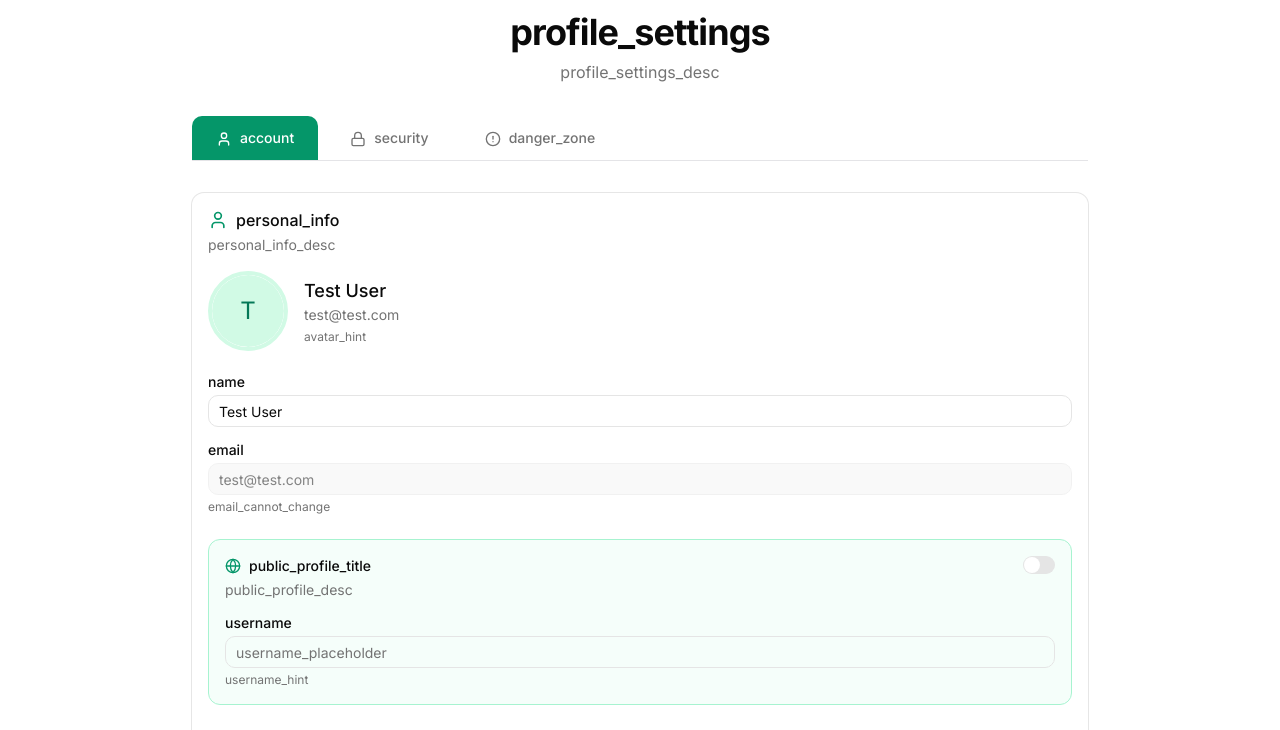
Scenario: SettingsPage › changes password
This screenshot has width=1280, height=730.
Expected: the text "Test User" is shown, [304,277,399,305]
Click the button "security": (389, 138) [326,116,453,160]
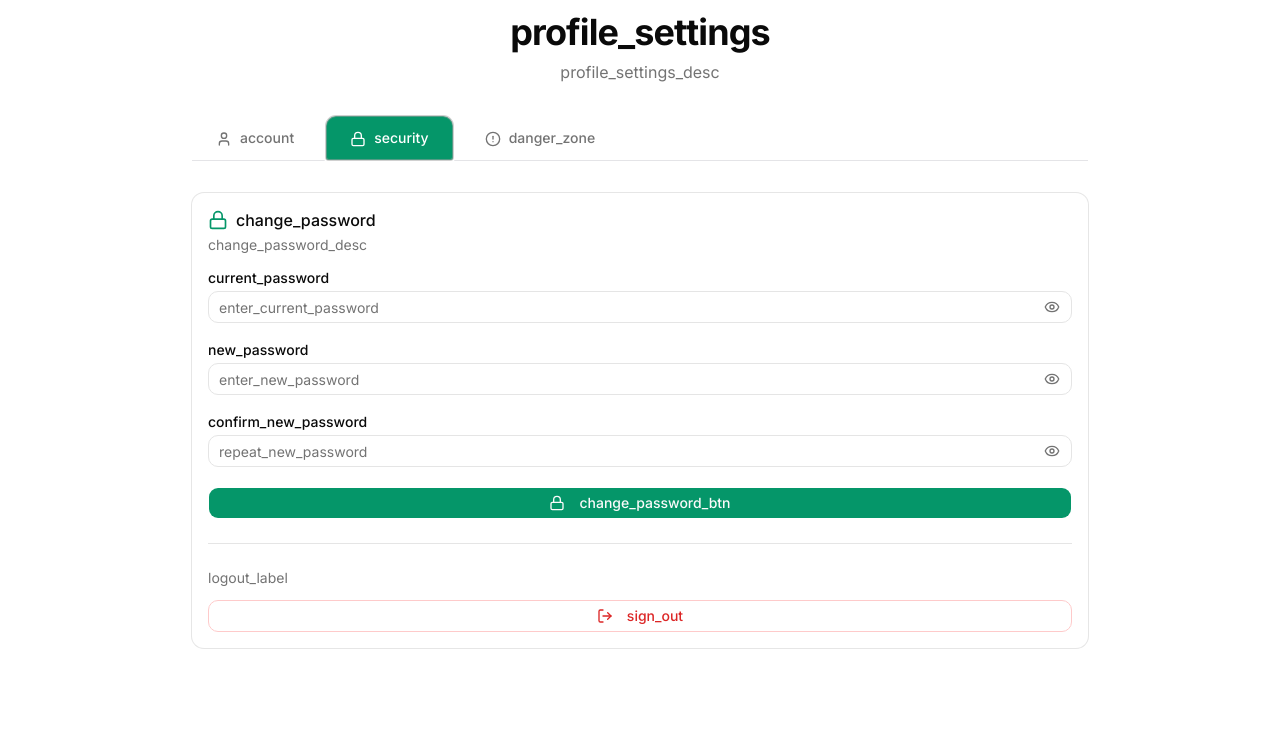
In the password field labelled "current_password": (640, 307) [208,291,1072,323], type "oldpass"
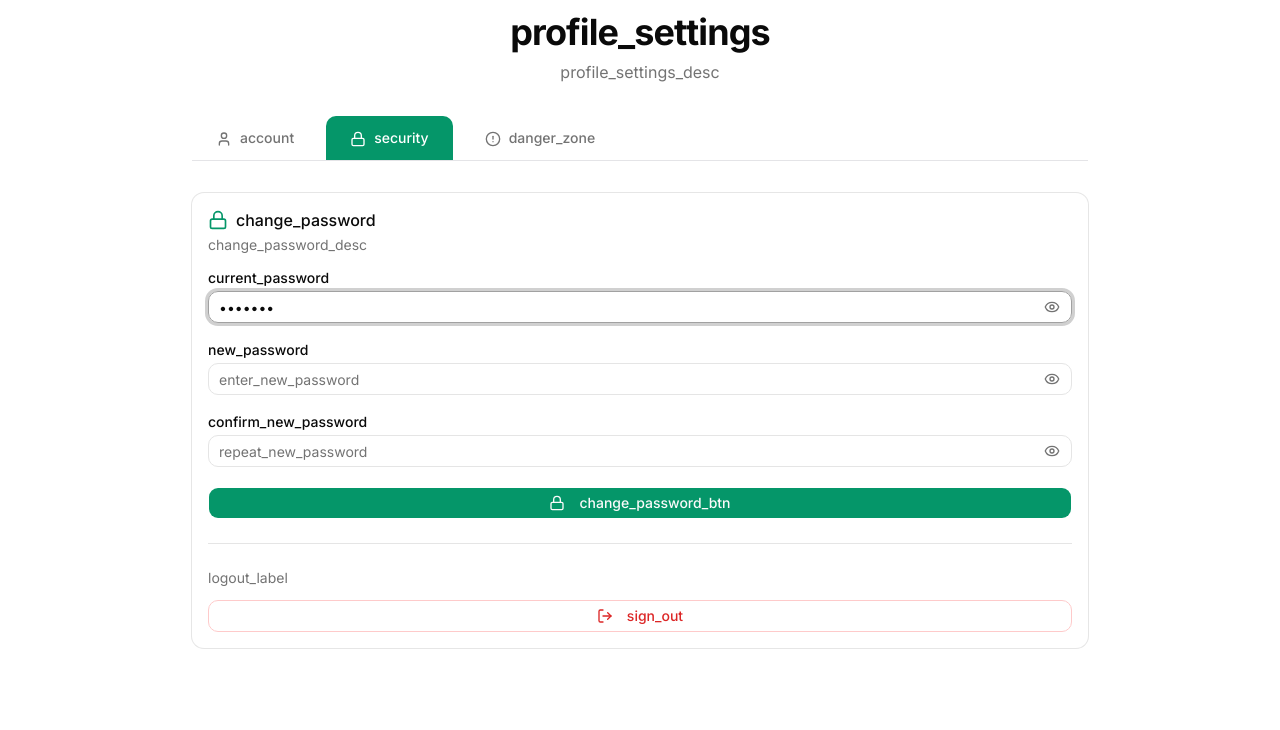
In the password field labelled "new_password": (640, 379) [208,363,1072,395], type "newpass123"
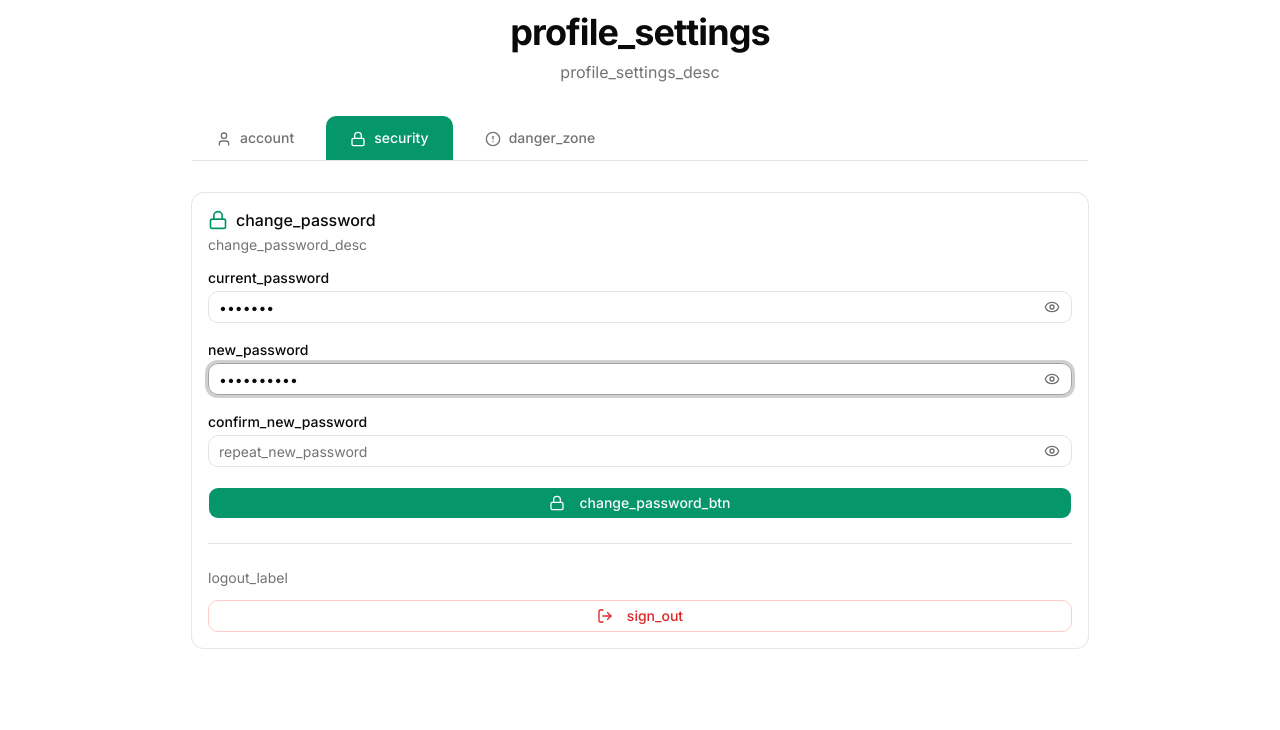
In the password field labelled "confirm_new_password": (640, 451) [208,435,1072,467], type "newpass123"
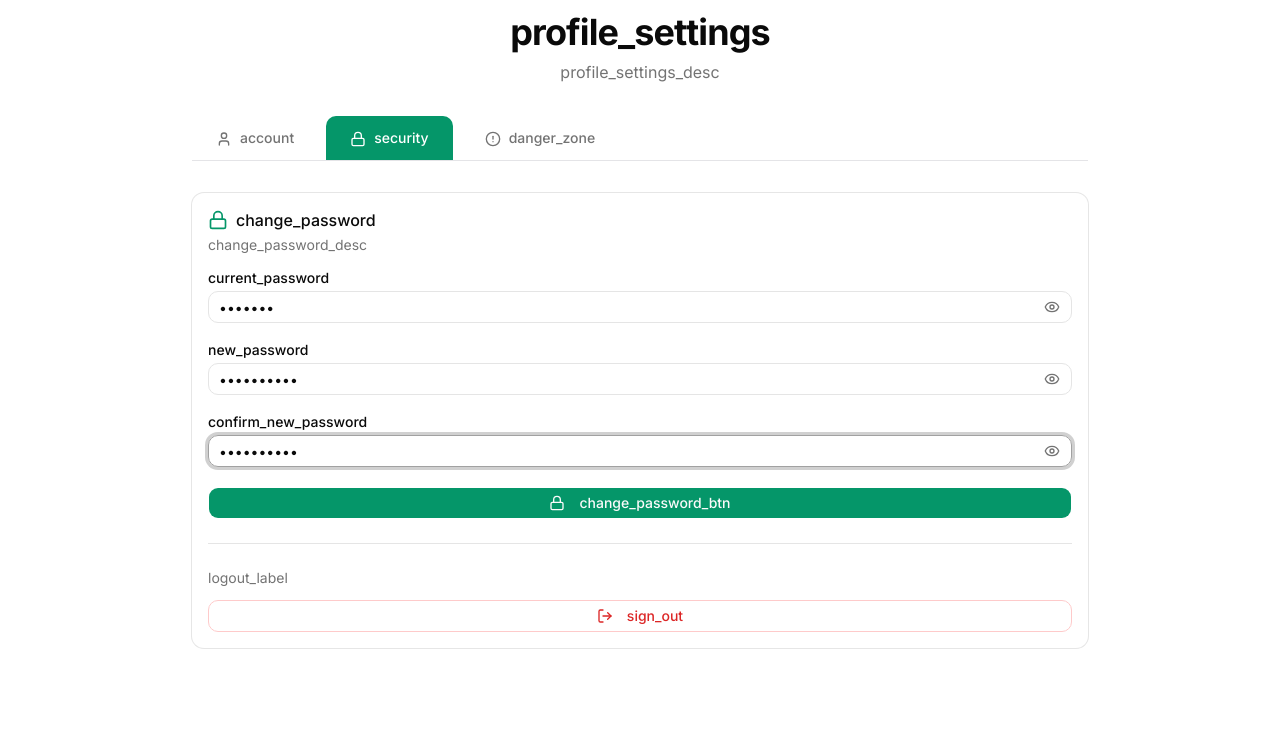
Click the button "change_password_btn": (640, 503) [208,487,1072,519]
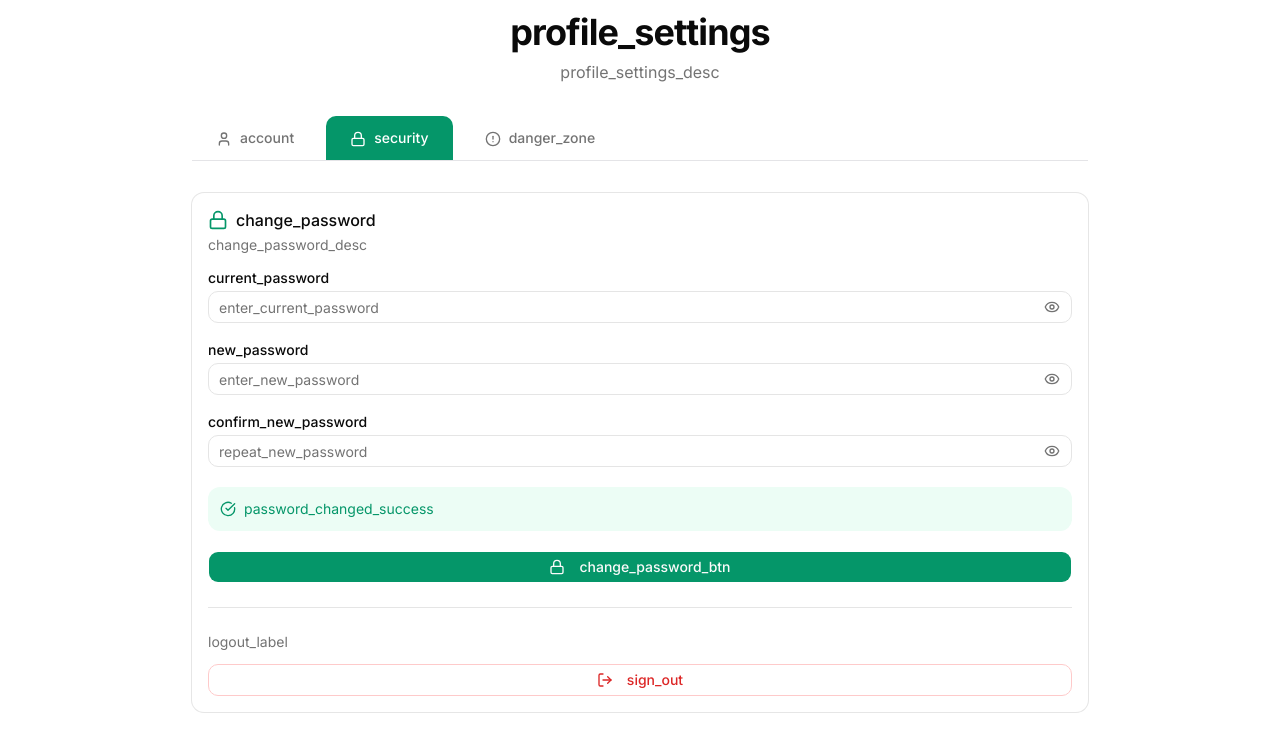
Expected: the text "password_changed_success" is shown, [244,499,434,519]
